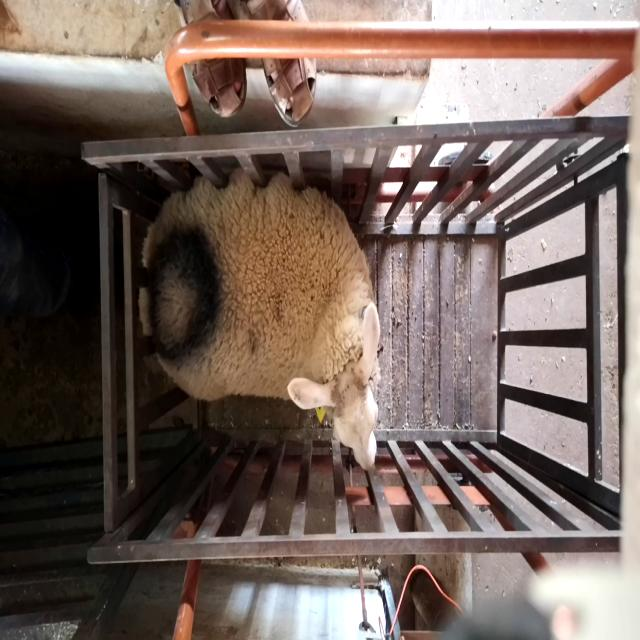sheep: (139, 171, 380, 472)
